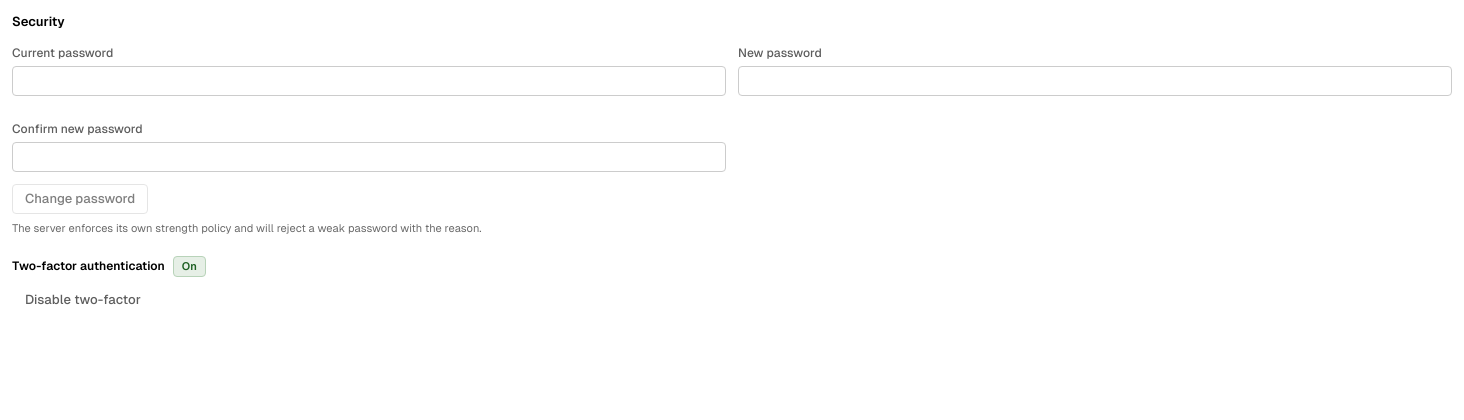
Test: AccountSecurity › requires BOTH a password and a current code to disable MFA
Click the button "Disable two-factor".
click(83, 300)  # box [12,284,154,314]
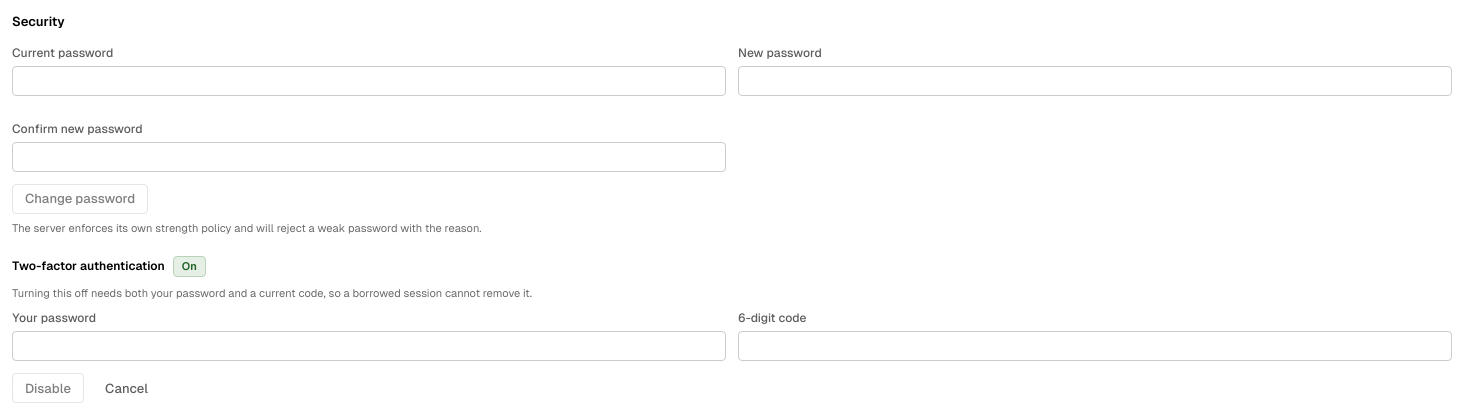
Expected: the button "Disable" is disabled, [12,373,84,403]
Type "pw" into the password field labelled "Your password".
click(369, 346); type("pw")  # box [12,331,726,361]
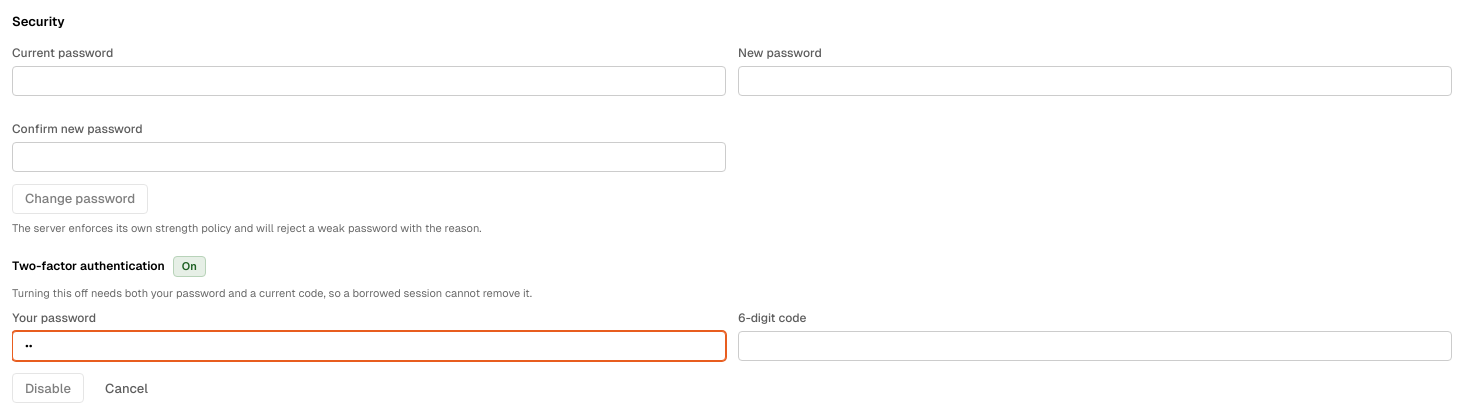
Expected: the button "Disable" is disabled, [12,373,84,403]
Type "123456" into the field labelled "6-digit code".
click(1095, 346); type("123456")  # box [738,331,1452,361]
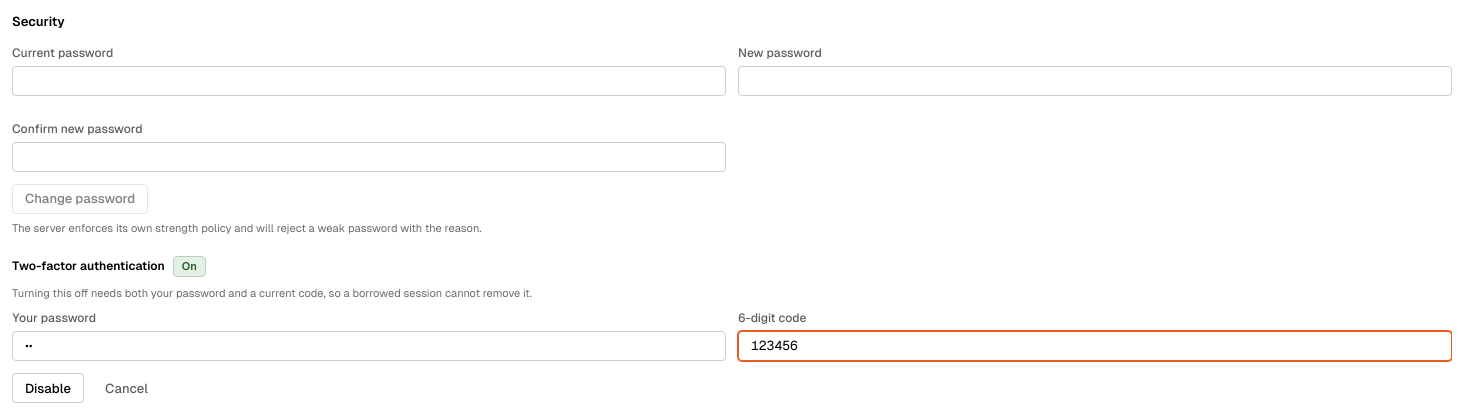
Expected: the button "Disable" is enabled, [12,373,84,403]
